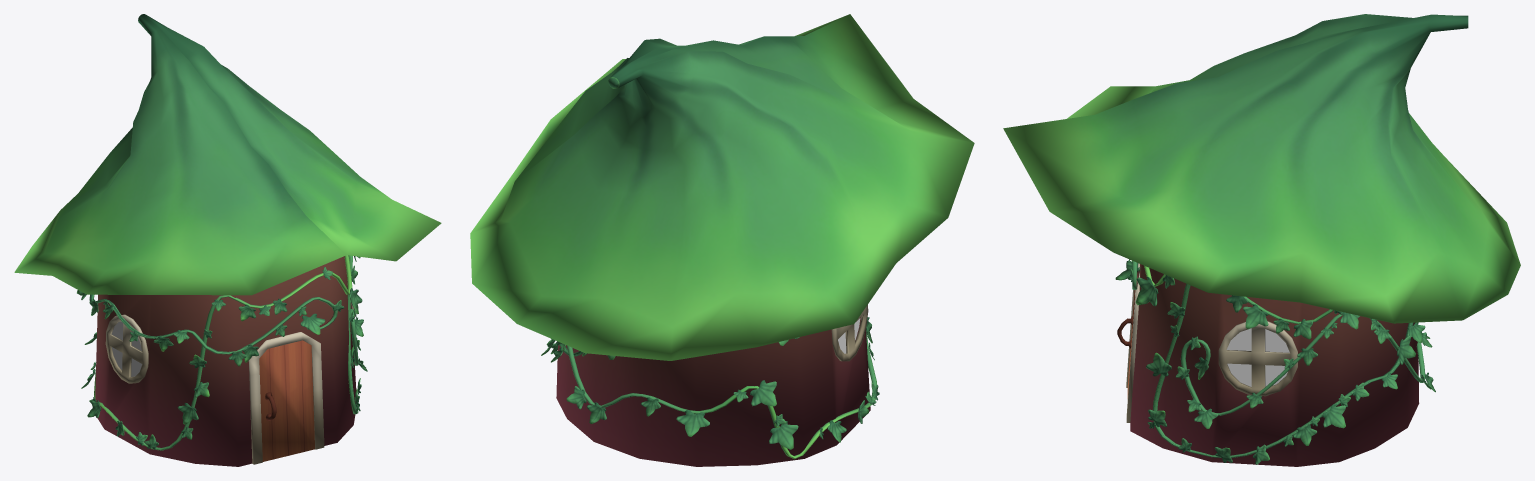
Rendered from froguhouse.fbx.
The picture shows the model from 3 angles, left to right: view 1: azimuth 30°, elevation 25°; view 2: azimuth 150°, elevation 25°; view 3: azimuth 270°, elevation 25°; orthographic projection. The views are drawn at different scales.
Visible parts, largest first — view 1: Leaf roof, Door, vine, Door frame; view 2: Leaf roof, vine; view 3: Leaf roof, vine, Door frame.
Boxes of the visible parts, x1,y1,x2,y2 form: Leaf roof: (14, 14, 441, 466); Door: (259, 340, 314, 461); vine: (89, 255, 358, 450); Door frame: (248, 332, 324, 464); Leaf roof: (470, 14, 974, 466); vine: (560, 333, 877, 458); Leaf roof: (1003, 14, 1520, 466); vine: (1132, 261, 1425, 457); Door frame: (1126, 263, 1139, 422).
Size of the model in its own units: 172 by 166 by 200.
10 materials, 8 textured.
